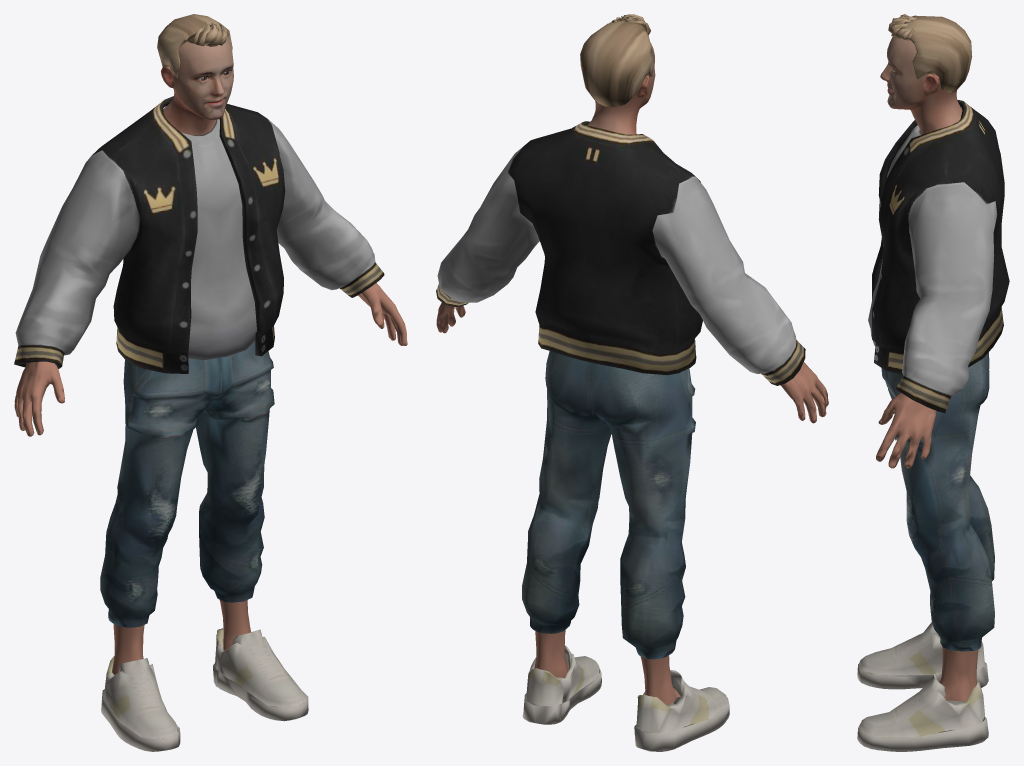
The model's file is Trump.fbx.
3 views of the same model, side by side, from view 1: azimuth 30°, elevation 25°; view 2: azimuth 150°, elevation 25°; view 3: azimuth 270°, elevation 25° (orthographic).
Parts seen in each view (by area): view 1: Trump.001; view 2: Trump.001; view 3: Trump.001.
Part boxes in pixels (left/top/right/bottom): Trump.001: left=14, top=14, right=407, bottom=751; Trump.001: left=436, top=14, right=828, bottom=751; Trump.001: left=857, top=14, right=1009, bottom=751.
Bounding box in the file's own units: 1.06 × 0.3685 × 1.85.
